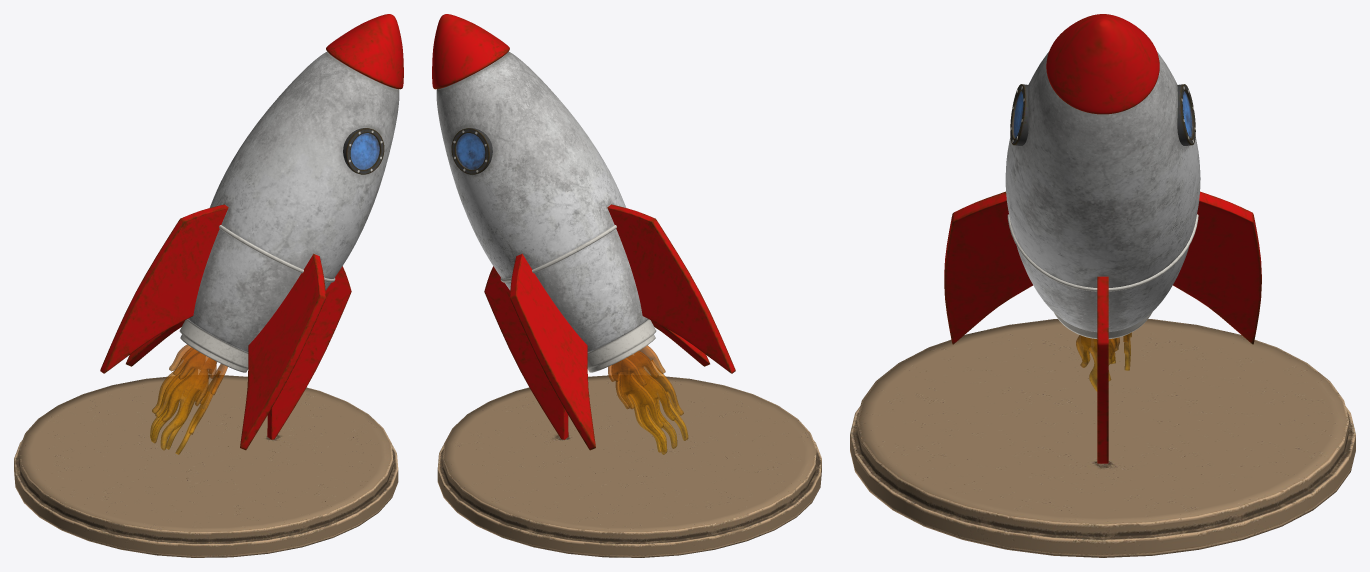
3 renders of one model, left to right at view 1: azimuth 30°, elevation 25°; view 2: azimuth 150°, elevation 25°; view 3: azimuth 270°, elevation 25°, orthographic. The views are drawn at different scales.
Parts seen in each view (by area): view 1: Toy_Rocket (×7); view 2: Toy_Rocket (×7); view 3: Toy_Rocket (×6).
Boxes of the visible parts, <box> form: Toy_Rocket (×7): <box>14,14,403,557</box>; Toy_Rocket (×7): <box>432,14,821,557</box>; Toy_Rocket (×6): <box>850,14,1355,557</box>.
Bounding box in the file's own units: 1.8 × 2 × 1.67.
Materials: 7 (7 with a texture image).
